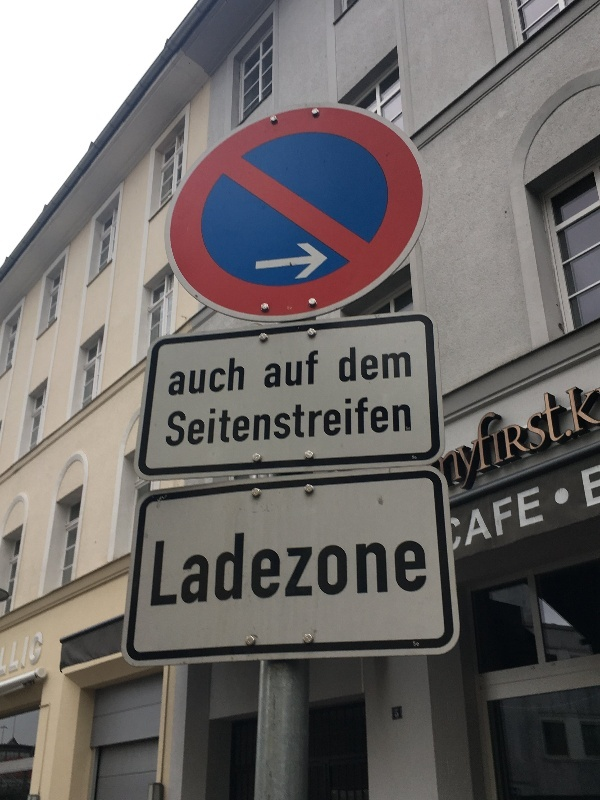text: (449, 370, 464, 499), (465, 370, 480, 499), (481, 370, 496, 499), (497, 370, 512, 499), (513, 370, 528, 499), (529, 370, 544, 499), (545, 370, 560, 499), (561, 370, 576, 499), (577, 370, 592, 499), (436, 370, 448, 499), (161, 520, 176, 609), (177, 520, 192, 609), (193, 520, 208, 609), (209, 520, 224, 609), (225, 520, 240, 609), (241, 520, 256, 609), (257, 520, 272, 609), (273, 520, 288, 609), (289, 520, 304, 609), (305, 520, 320, 609), (321, 520, 336, 609), (337, 520, 352, 609), (353, 520, 368, 609), (369, 520, 384, 609), (385, 520, 400, 609), (401, 520, 416, 609), (449, 484, 464, 556), (465, 484, 480, 556), (481, 484, 496, 556), (497, 484, 512, 556), (513, 484, 528, 556), (529, 484, 544, 556), (593, 370, 600, 499), (417, 520, 427, 609), (177, 393, 192, 449), (193, 393, 208, 449), (209, 393, 224, 449), (225, 393, 240, 449), (241, 393, 256, 449), (257, 393, 272, 449), (273, 393, 288, 449), (289, 393, 304, 449), (305, 393, 320, 449), (321, 393, 336, 449), (337, 393, 352, 449), (353, 393, 368, 449), (369, 393, 384, 449), (385, 393, 400, 449), (1, 630, 16, 679), (17, 630, 32, 679), (177, 354, 192, 399), (193, 354, 208, 399), (209, 354, 224, 399), (225, 354, 240, 399), (273, 348, 288, 393), (289, 348, 304, 393), (305, 348, 319, 393), (401, 393, 412, 449), (353, 345, 368, 384), (369, 345, 384, 384), (385, 345, 400, 384), (33, 630, 44, 679), (581, 461, 592, 510), (340, 345, 352, 384), (401, 345, 413, 384), (156, 520, 160, 609), (593, 461, 600, 510), (170, 393, 176, 449), (266, 348, 272, 393), (171, 354, 176, 399), (241, 354, 246, 399), (445, 484, 448, 556)
